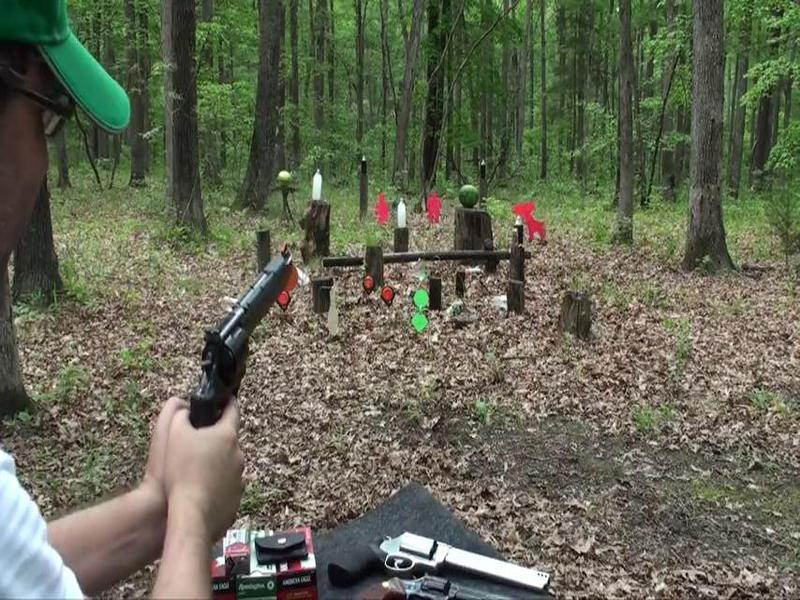Revolver: (173, 224, 320, 451)
